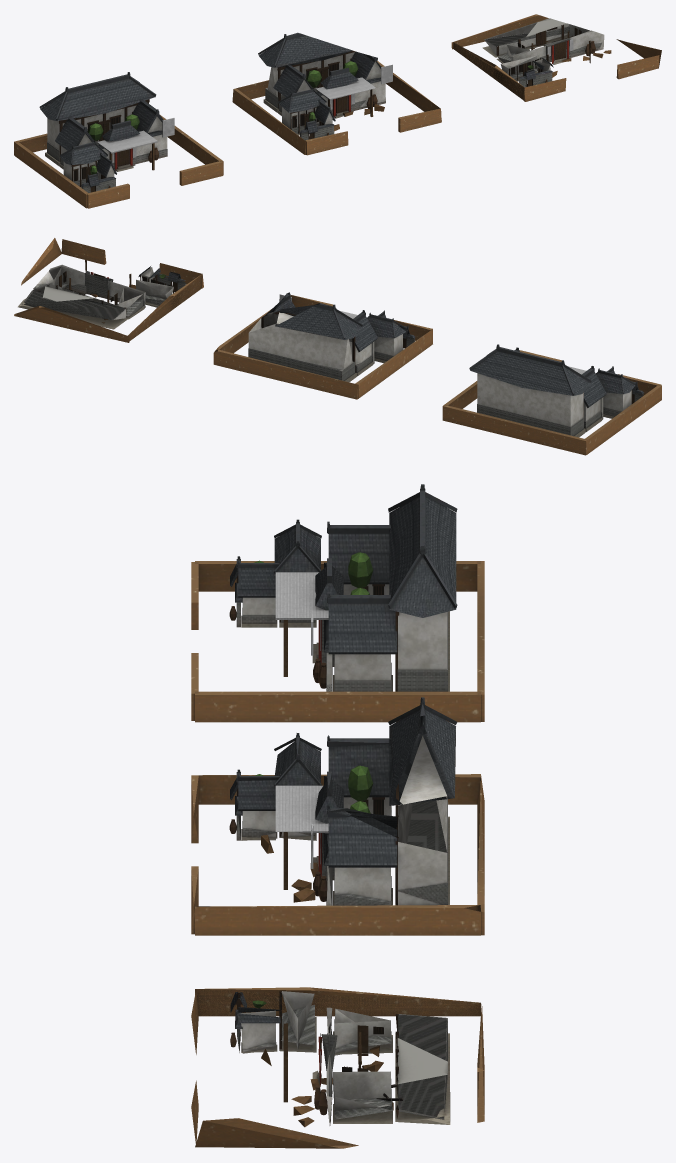
The model's file is civic-gunpowder-sinic.glb.
3 renders of one model, top to bottom at view 1: azimuth 30°, elevation 25°; view 2: azimuth 150°, elevation 25°; view 3: azimuth 270°, elevation 25°, orthographic. The views are drawn at different scales.
Visible parts, largest first — view 1: LOD0, LOD0.001, LOD0.002; view 2: LOD0, LOD0.001, LOD0.002; view 3: LOD0.001, LOD0, LOD0.002.
Boxes of the visible parts, left/top/right/bottom form: LOD0: left=14, top=72, right=223, bottom=208; LOD0.001: left=232, top=32, right=441, bottom=155; LOD0.002: left=451, top=14, right=661, bottom=101; LOD0: left=442, top=344, right=661, bottom=455; LOD0.001: left=213, top=292, right=432, bottom=399; LOD0.002: left=14, top=238, right=203, bottom=342; LOD0.001: left=191, top=697, right=484, bottom=935; LOD0: left=191, top=484, right=484, bottom=722; LOD0.002: left=191, top=987, right=484, bottom=1148.
Size of what is drawn, in the model's own units: 7.93 by 0.9205 by 1.75.
2 materials, 2 textured.
